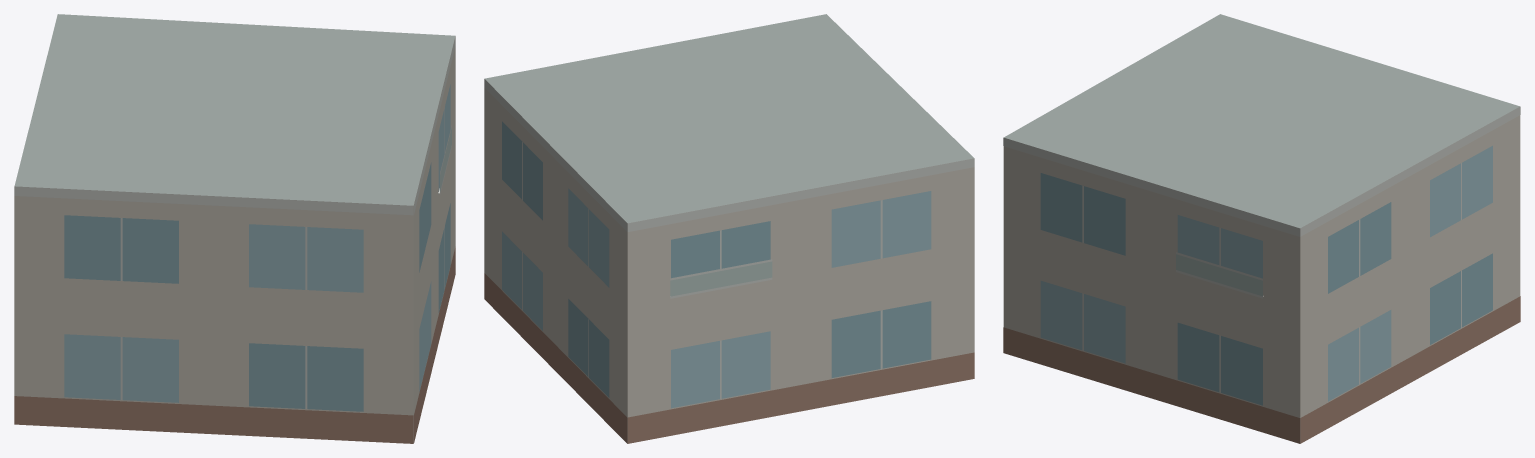
File: survey-upis-32678588.glb
3 renders of one model, left to right at view 1: azimuth 30°, elevation 25°; view 2: azimuth 150°, elevation 25°; view 3: azimuth 270°, elevation 25°, orthographic. The views are drawn at different scales.
Visible parts, largest first — view 1: survey-upis-32678588.tmp; view 2: survey-upis-32678588.tmp; view 3: survey-upis-32678588.tmp.
Part boxes in pixels (bbox=[...]): survey-upis-32678588.tmp: bbox=[14, 14, 455, 443]; survey-upis-32678588.tmp: bbox=[484, 14, 974, 443]; survey-upis-32678588.tmp: bbox=[1003, 14, 1520, 443].
Size of the model in its own units: 13.02 by 6.1 by 13.27.
